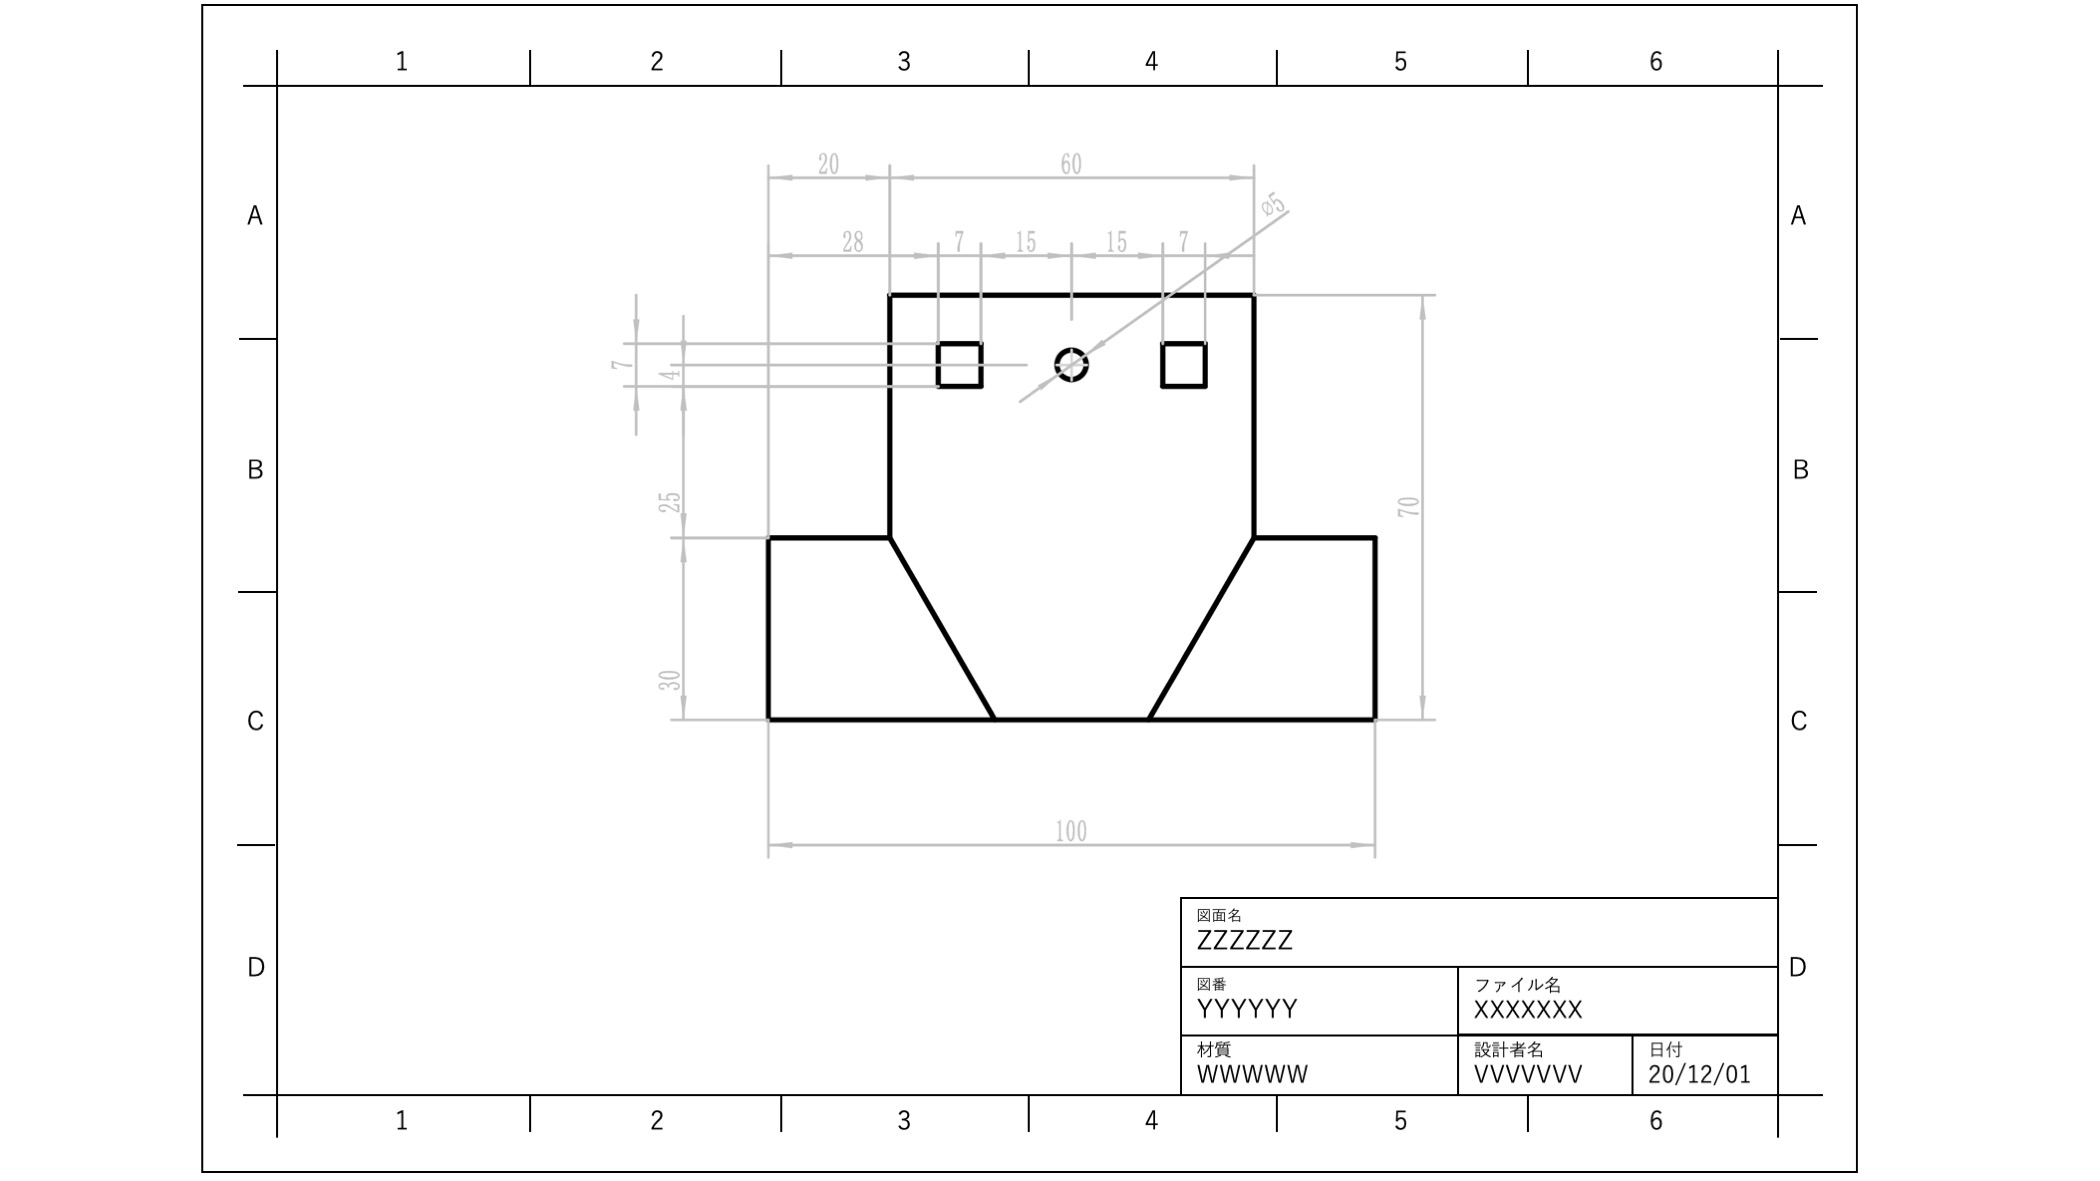circle: (1053, 337, 1105, 391)
rectangle: (1148, 320, 1227, 405), (923, 324, 998, 397)
